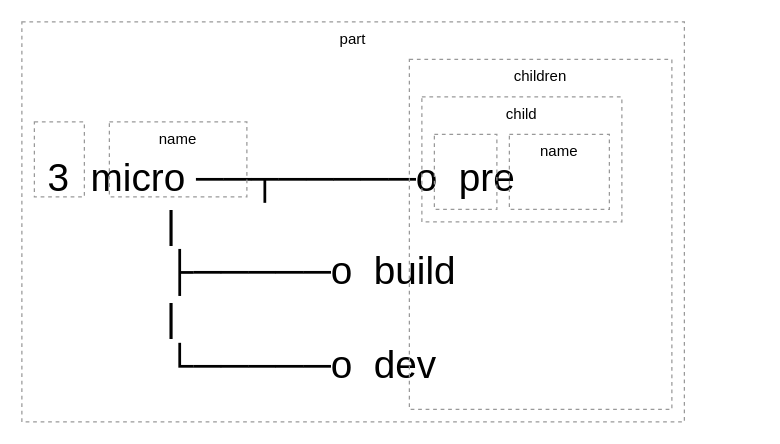
The diagram is 780 pixels wide and 444 high, and some of its shapes have lost their labels. Here are the shapes that lost their labels. From the top down, the box of each, then its label:
(33, 121, 84, 197): order
(433, 133, 497, 209): required
